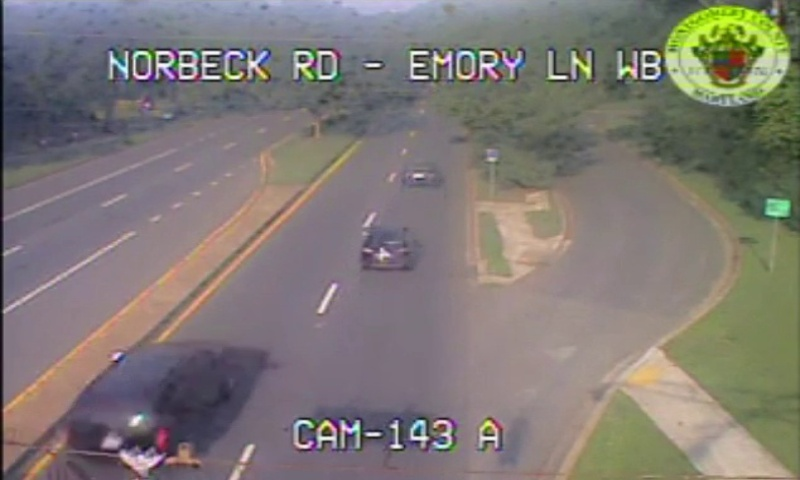car: (69, 342, 238, 457), (359, 230, 413, 269), (402, 161, 437, 185)
